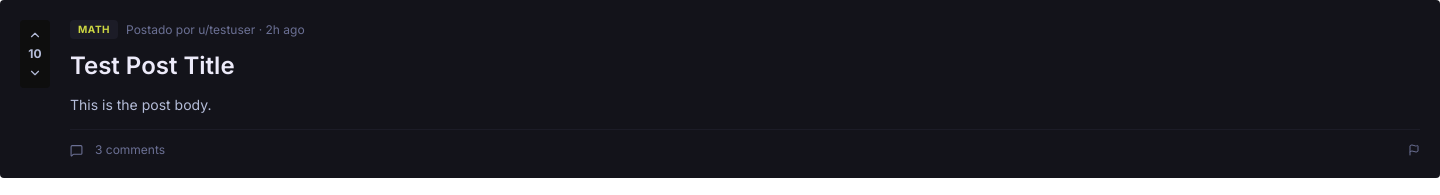
Test: PostDetail › optimistically decrements vote count on downvote
Click the button named "downvote".
click(35, 73)  # box [24, 62, 46, 84]
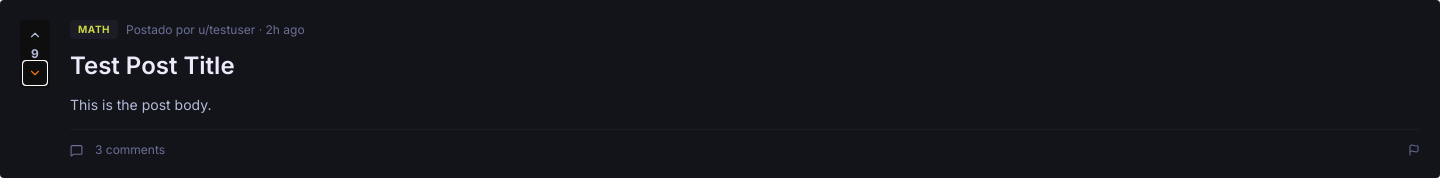
Expected: the text "9" is shown, [31, 46, 39, 61]
